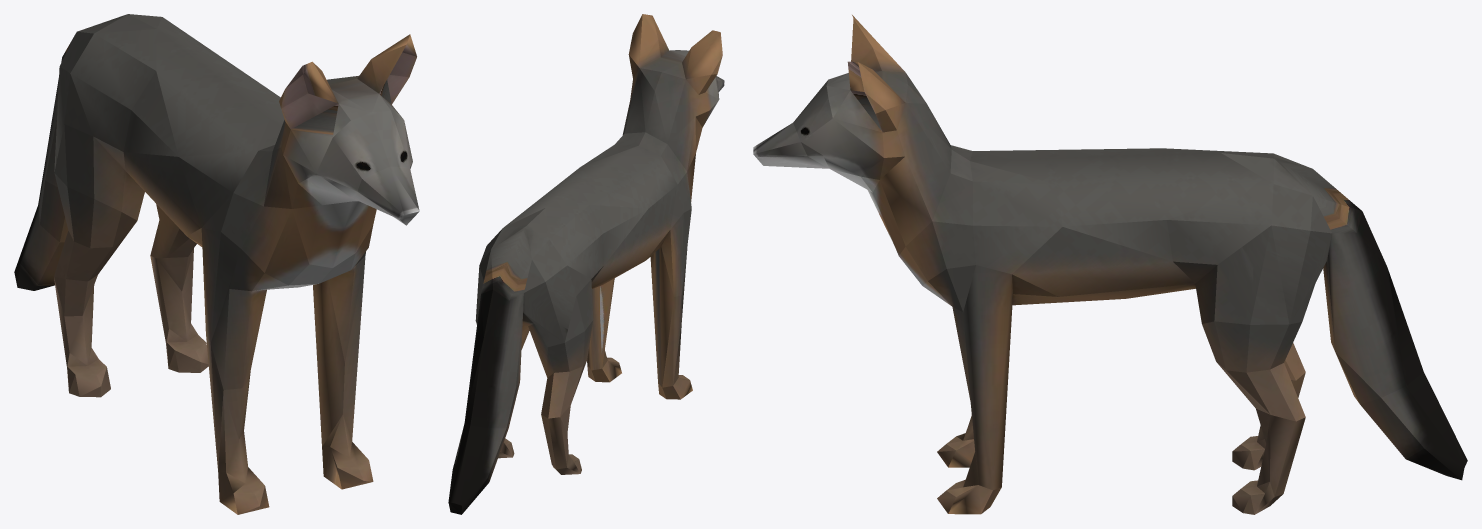
Rendered from fox.glb.
3 renders of one model, left to right at view 1: azimuth 30°, elevation 25°; view 2: azimuth 150°, elevation 25°; view 3: azimuth 270°, elevation 25°, orthographic. The views are drawn at different scales.
Parts seen in each view (by area): view 1: GrayFox_Mesh; view 2: GrayFox_Mesh; view 3: GrayFox_Mesh.
Boxes of the visible parts, left/top/right/bottom form: GrayFox_Mesh: left=14, top=14, right=419, bottom=514; GrayFox_Mesh: left=448, top=14, right=724, bottom=514; GrayFox_Mesh: left=753, top=15, right=1467, bottom=514.
Size of the model in its own units: 1.15 by 3.62 by 5.25.
Materials: 1 (1 with a texture image).
